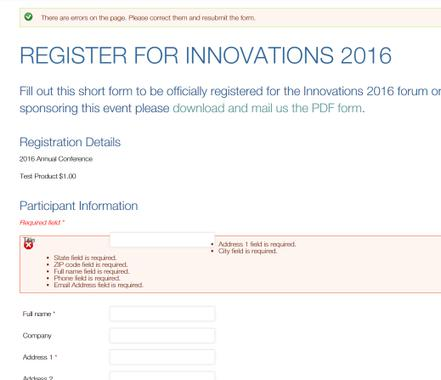error_message: (52, 254, 143, 290), (39, 13, 258, 24), (217, 240, 295, 255), (18, 218, 67, 227)
